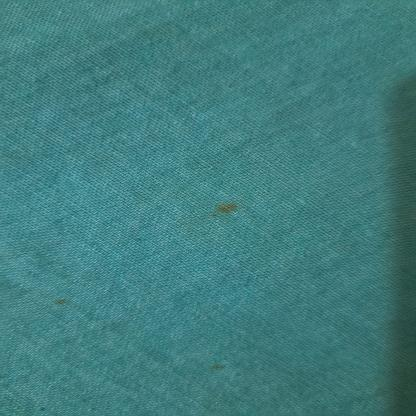spot: (206, 194, 250, 216), (49, 292, 83, 310)
